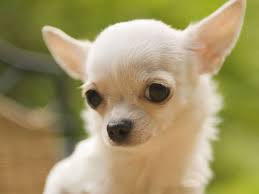chihuahua: (40, 1, 246, 194)
